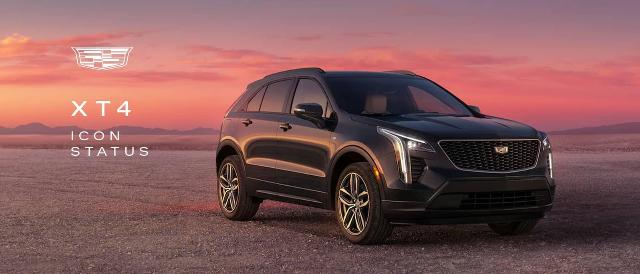cadillac: (214, 66, 556, 246)
